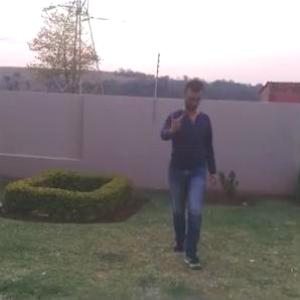takeoff-hand: (167, 108, 191, 138)
